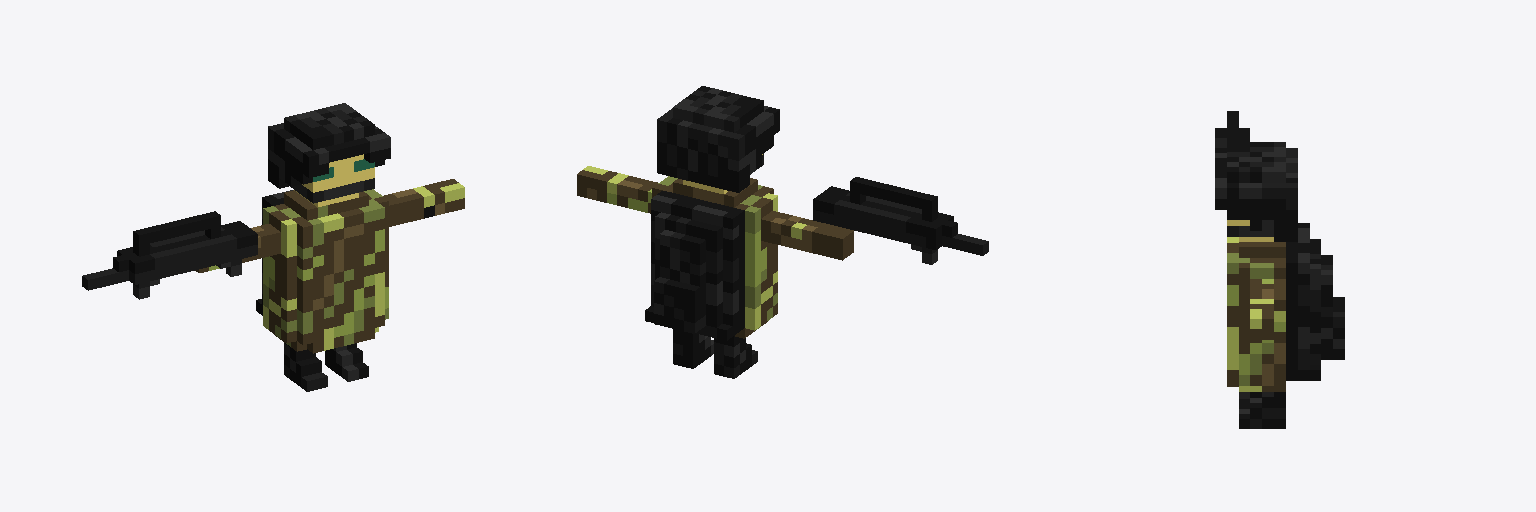
3 views of the same model, side by side, from view 1: azimuth 30°, elevation 25°; view 2: azimuth 150°, elevation 25°; view 3: azimuth 270°, elevation 25° (orthographic).
Parts seen in each view (by area): view 1: soldierextended; view 2: soldierextended; view 3: soldierextended.
Boxes of the visible parts, x1,y1,x2,y2 form: soldierextended: [82, 103, 464, 391]; soldierextended: [577, 86, 988, 378]; soldierextended: [1215, 111, 1344, 428].
Size of the model in its own units: 38 by 24 by 11.
1 materials, 1 textured.